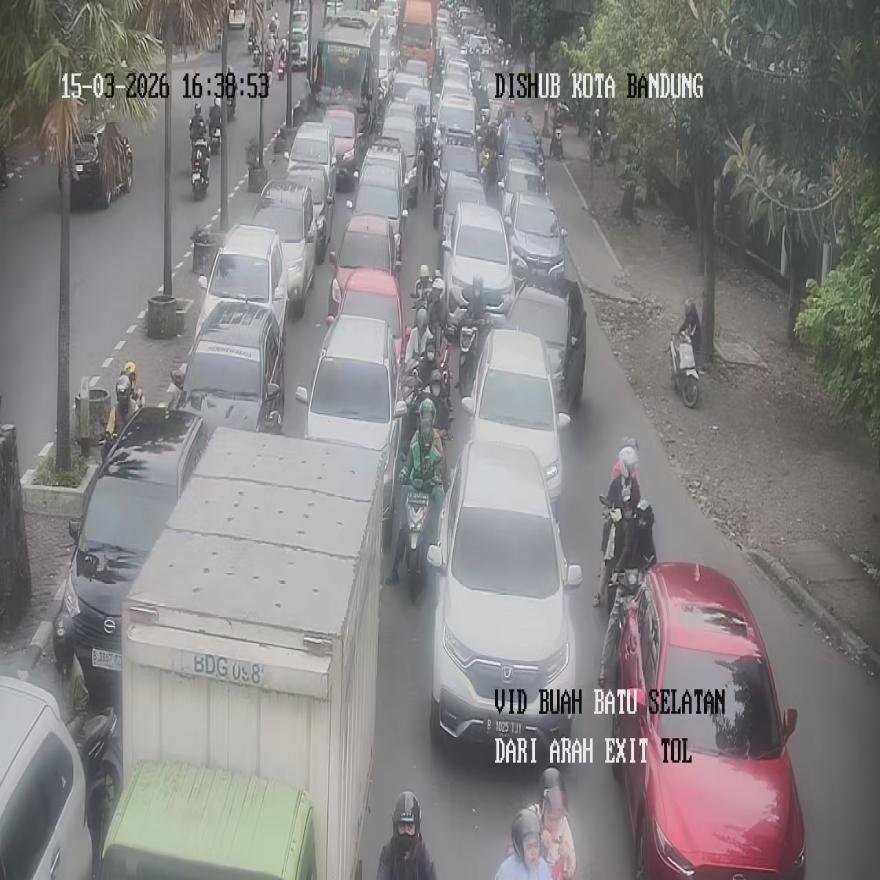Mobil: (609, 562, 807, 878), (427, 438, 582, 760), (58, 404, 206, 696), (295, 315, 402, 534), (460, 328, 570, 504), (0, 672, 93, 878), (168, 299, 284, 434), (504, 273, 586, 413), (195, 224, 287, 347), (440, 202, 520, 325), (253, 179, 316, 316)
Motor: (72, 708, 122, 877), (401, 484, 436, 601), (102, 374, 140, 461), (669, 331, 699, 407), (190, 138, 208, 199), (590, 127, 605, 166), (550, 125, 563, 160), (209, 122, 221, 154), (278, 42, 285, 78)
